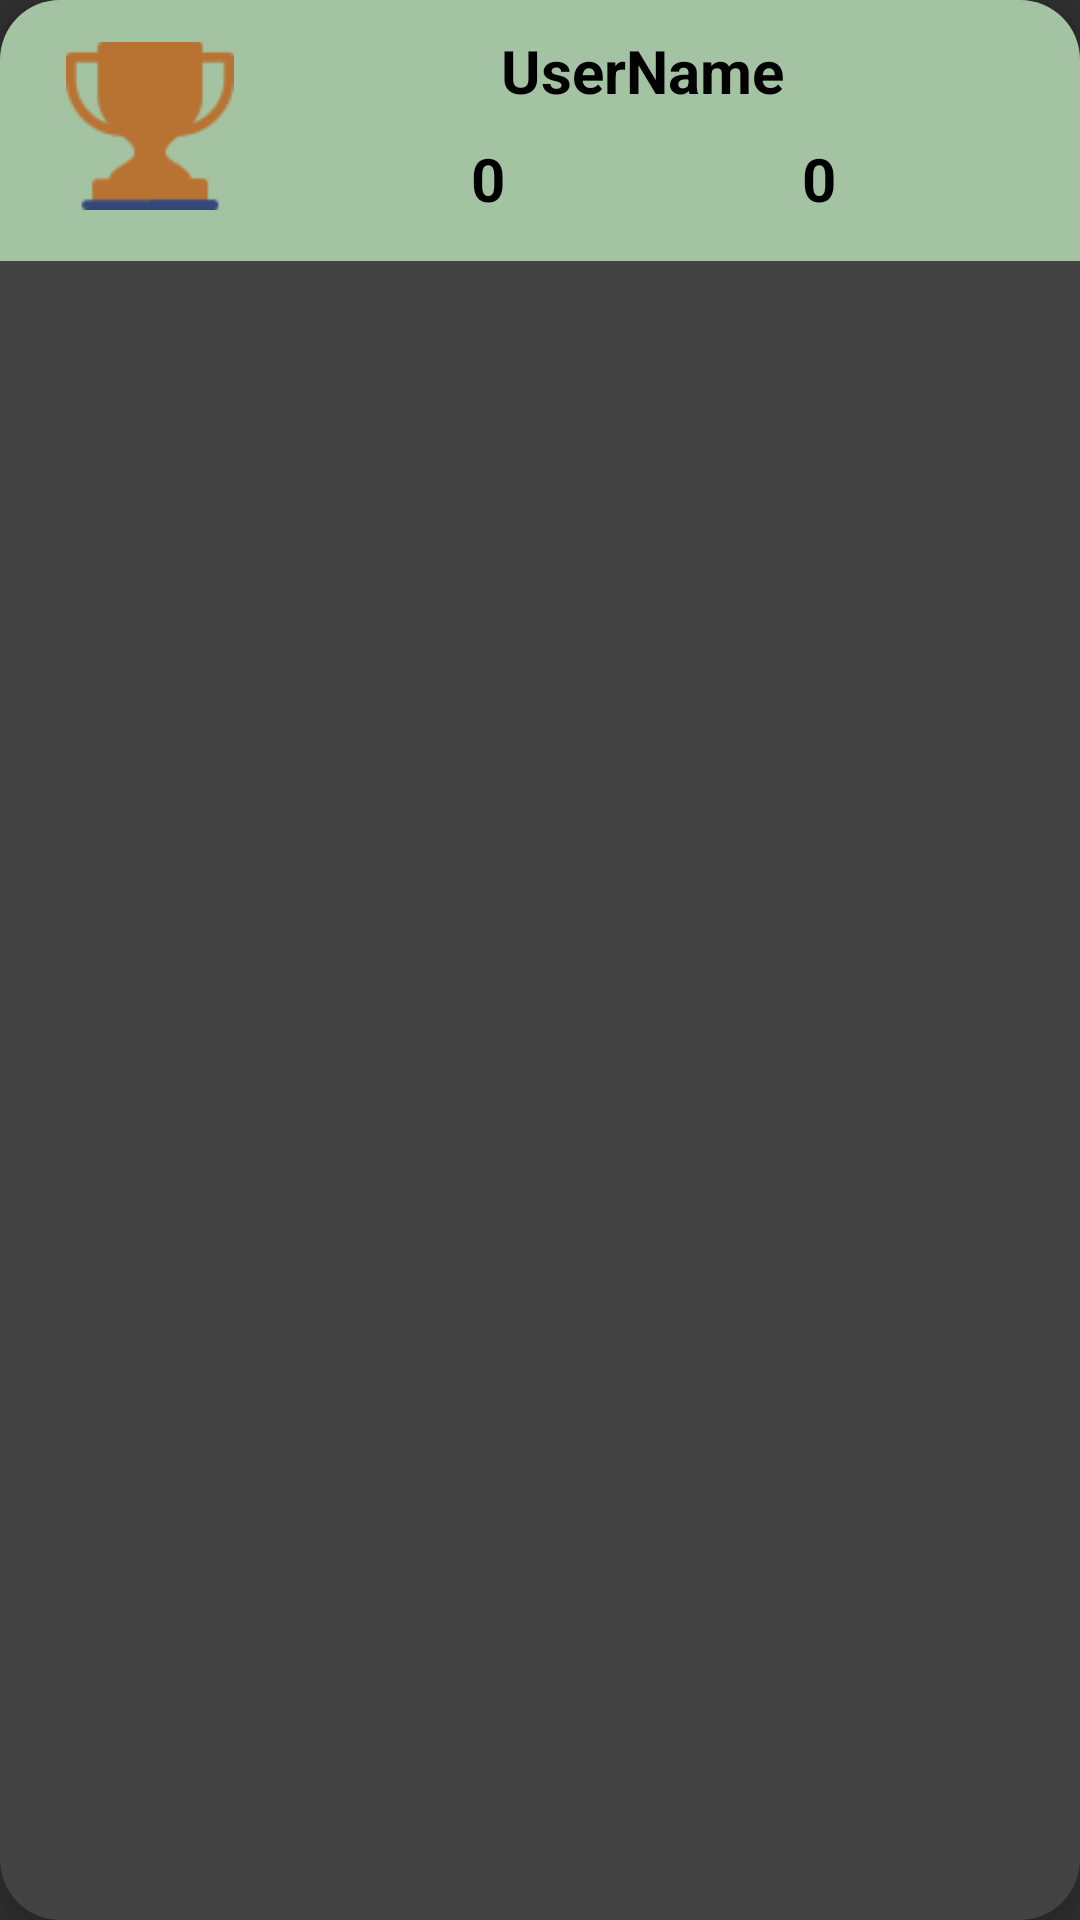

Icons on this 1080px x 1920px Android screen, each with the point to tap as (x=x, y=y):
copper: (x=150, y=126)
